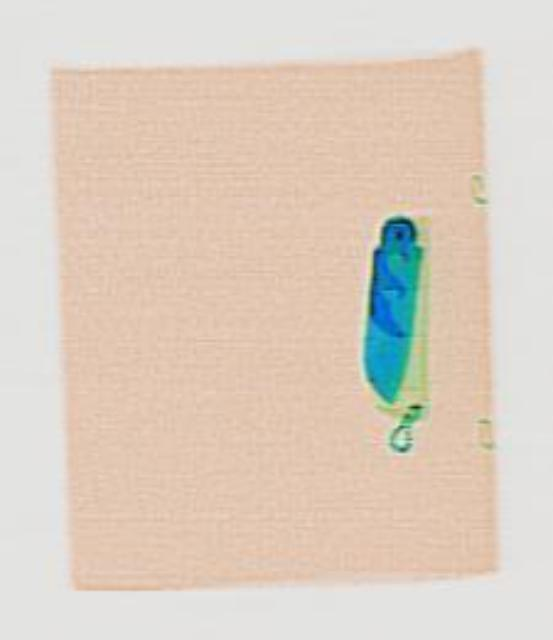Knife: (353, 210, 422, 406)
